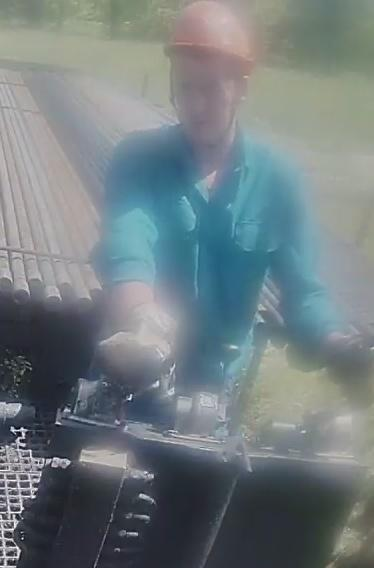gloves: (92, 300, 181, 388), (323, 318, 374, 408)
helmet: (161, 2, 261, 71)
vest: (105, 130, 306, 378)
